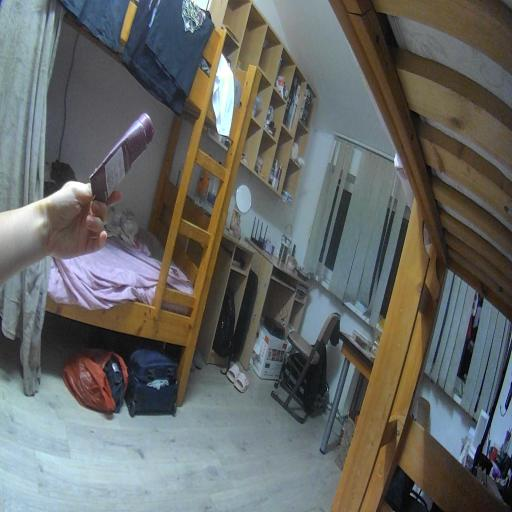Hand Cream: (88, 111, 155, 213)
